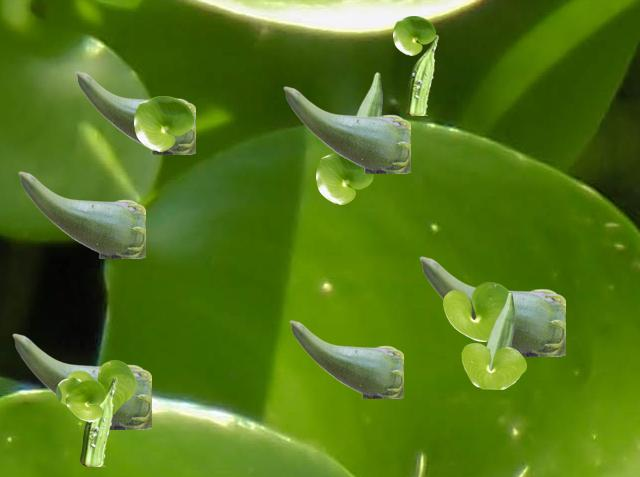okra: (419, 256, 564, 355), (12, 333, 150, 428), (18, 171, 144, 257), (283, 86, 409, 172), (75, 71, 194, 153), (289, 320, 402, 397), (80, 377, 116, 465), (405, 35, 437, 114), (486, 292, 513, 369), (356, 72, 381, 115)
